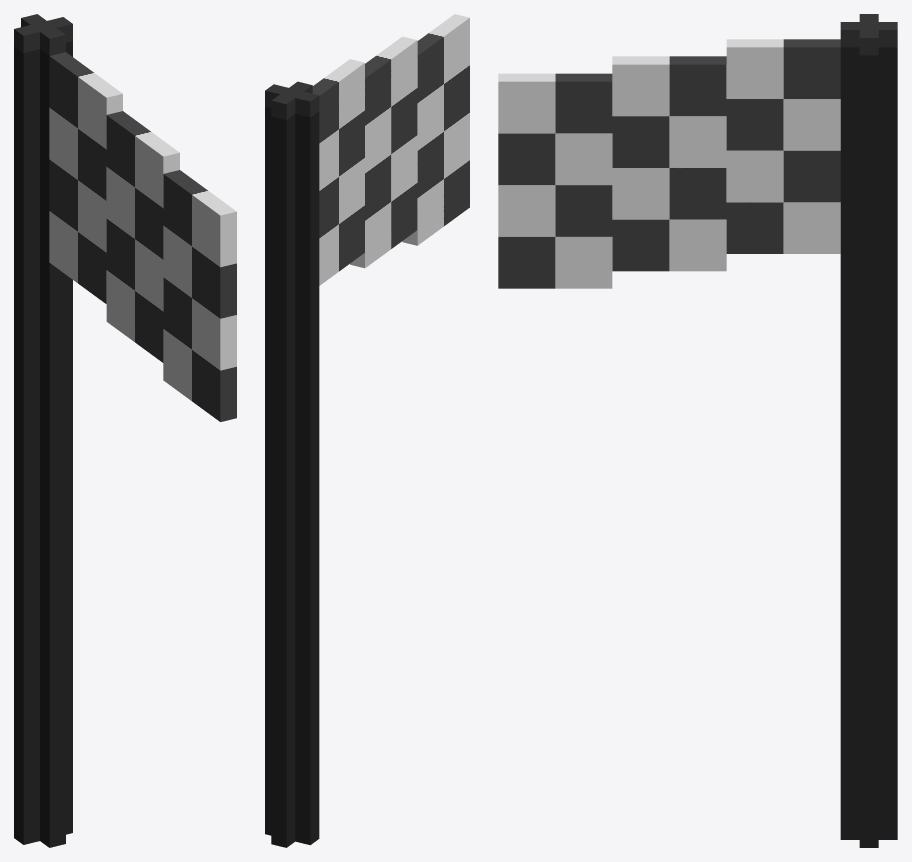
Rendered from Flag.fbx.
3 views of the same model, side by side, from view 1: azimuth 30°, elevation 25°; view 2: azimuth 150°, elevation 25°; view 3: azimuth 270°, elevation 25° (orthographic). The views are drawn at different scales.
Visible parts, largest first — view 1: Matrix; view 2: Matrix; view 3: Matrix.
Boxes of the visible parts, <box> form: Matrix: <box>14,14,236,847</box>; Matrix: <box>265,14,469,847</box>; Matrix: <box>498,14,897,847</box>.
Size of the model in its own units: 3 by 47 by 21.
